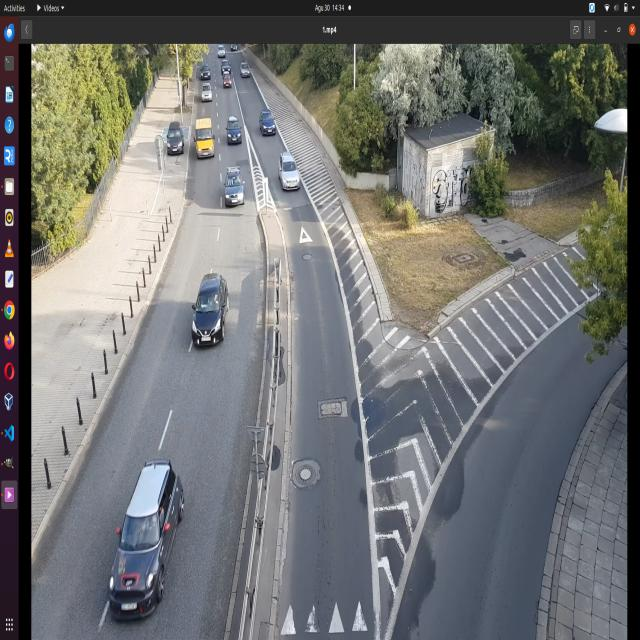person_with_seatbelt: (234, 175, 241, 186)
person_without_seatbelt: (227, 175, 233, 185)
